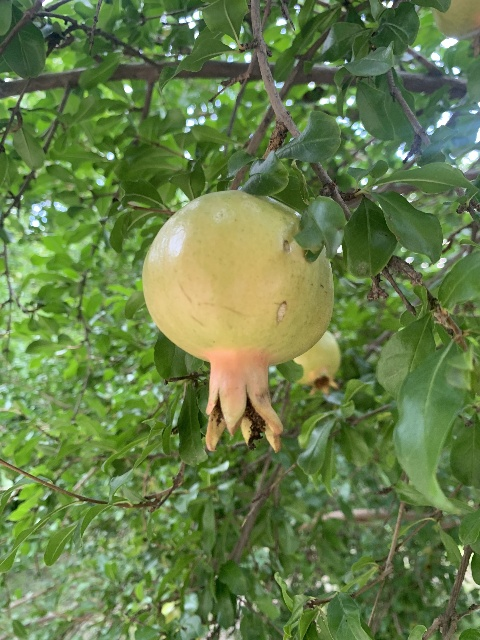mid-growth: (140, 190, 335, 454), (292, 330, 341, 397)
